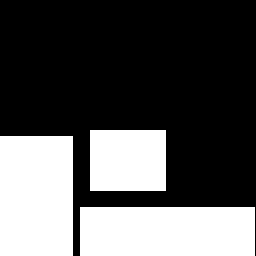rumex: (0, 136, 72, 256), (80, 207, 254, 256), (90, 130, 165, 190)
